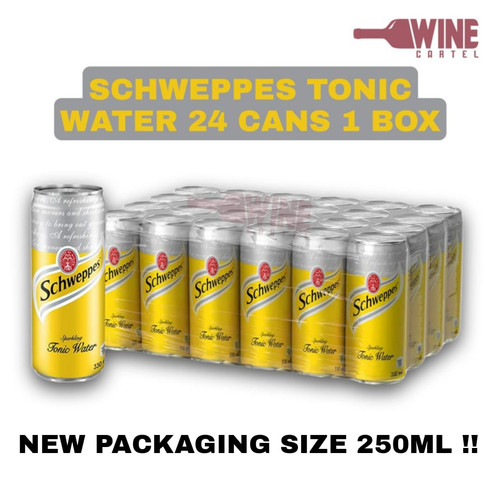cylinder: (31, 184, 105, 383), (346, 229, 408, 386), (292, 226, 353, 378), (370, 221, 427, 371), (240, 221, 296, 371), (390, 212, 447, 356), (140, 212, 196, 358), (189, 219, 244, 364), (408, 204, 462, 342), (105, 210, 147, 352)
